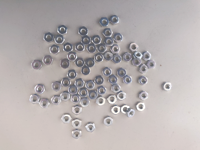nut: (78, 26, 89, 37), (31, 60, 42, 70), (43, 55, 53, 66), (49, 45, 60, 55), (44, 32, 54, 43), (55, 34, 65, 45), (58, 25, 68, 36), (51, 96, 62, 106), (51, 82, 62, 92), (102, 67, 113, 77), (111, 84, 122, 94), (60, 92, 71, 102), (80, 98, 91, 108), (68, 85, 78, 96), (100, 17, 110, 27), (110, 15, 120, 25), (114, 33, 124, 43), (103, 28, 113, 38), (92, 35, 102, 45), (75, 43, 85, 53), (63, 43, 73, 53), (60, 59, 70, 69), (67, 70, 77, 80), (35, 85, 45, 95), (30, 95, 40, 105), (40, 99, 50, 109), (72, 106, 82, 116), (62, 115, 72, 125), (72, 119, 82, 129), (72, 130, 82, 140), (86, 123, 96, 133), (104, 117, 114, 127), (96, 97, 106, 107), (111, 106, 121, 116), (108, 95, 118, 105), (97, 86, 107, 96), (95, 76, 105, 86), (86, 58, 96, 68), (81, 66, 91, 76), (75, 58, 85, 68), (67, 52, 77, 62), (138, 76, 148, 86), (139, 91, 149, 101), (108, 75, 118, 85), (126, 109, 136, 119), (87, 44, 97, 54), (94, 53, 104, 63), (112, 54, 122, 64), (104, 52, 114, 62), (123, 53, 133, 63), (71, 95, 81, 105), (75, 79, 85, 89), (79, 89, 89, 99), (61, 78, 71, 88), (163, 82, 173, 92), (136, 103, 146, 112), (123, 76, 133, 85), (117, 69, 127, 78), (117, 92, 127, 101), (121, 105, 130, 115), (129, 43, 139, 52), (88, 91, 98, 100), (85, 81, 95, 90), (111, 45, 120, 54), (105, 38, 114, 47), (143, 52, 152, 61), (140, 65, 149, 74), (133, 58, 142, 67), (134, 51, 143, 60), (148, 60, 156, 70), (81, 37, 91, 45), (98, 44, 107, 52)
